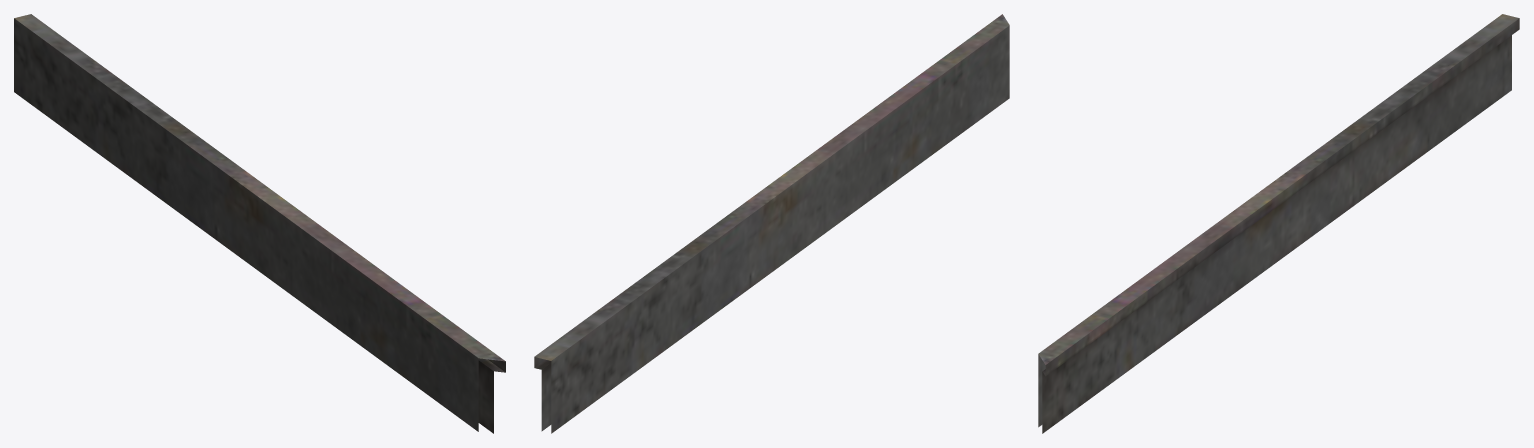
File: RoofWall_01.FBX
The picture shows the model from 3 angles, left to right: view 1: azimuth 30°, elevation 25°; view 2: azimuth 150°, elevation 25°; view 3: azimuth 330°, elevation 25°; orthographic projection.
Visible parts, largest first — view 1: RoofWall_01; view 2: RoofWall_01; view 3: RoofWall_01.
Part boxes in pixels (<box>): RoofWall_01: <box>14,14,505,433</box>; RoofWall_01: <box>534,14,1009,433</box>; RoofWall_01: <box>1038,14,1519,433</box>.
Bounding box in the file's own units: 22.66 × 92.93 × 1082.
